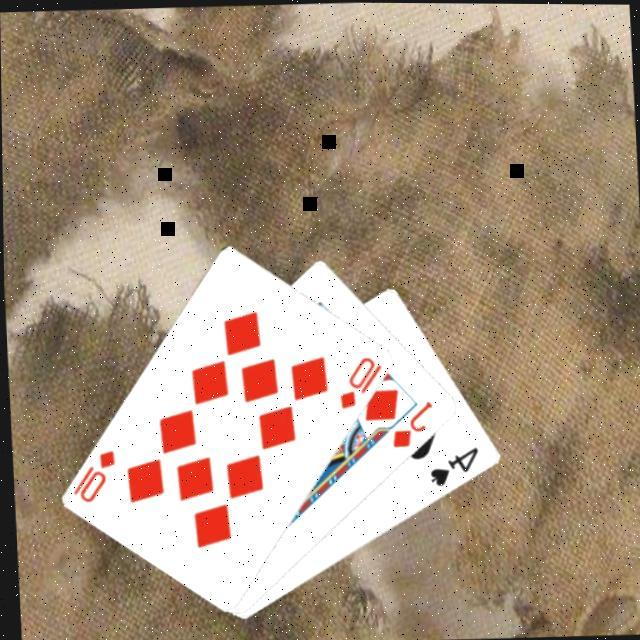10D: (66, 443, 120, 504), (334, 350, 386, 410)
4S: (424, 440, 483, 487)
JD: (387, 394, 438, 449)
